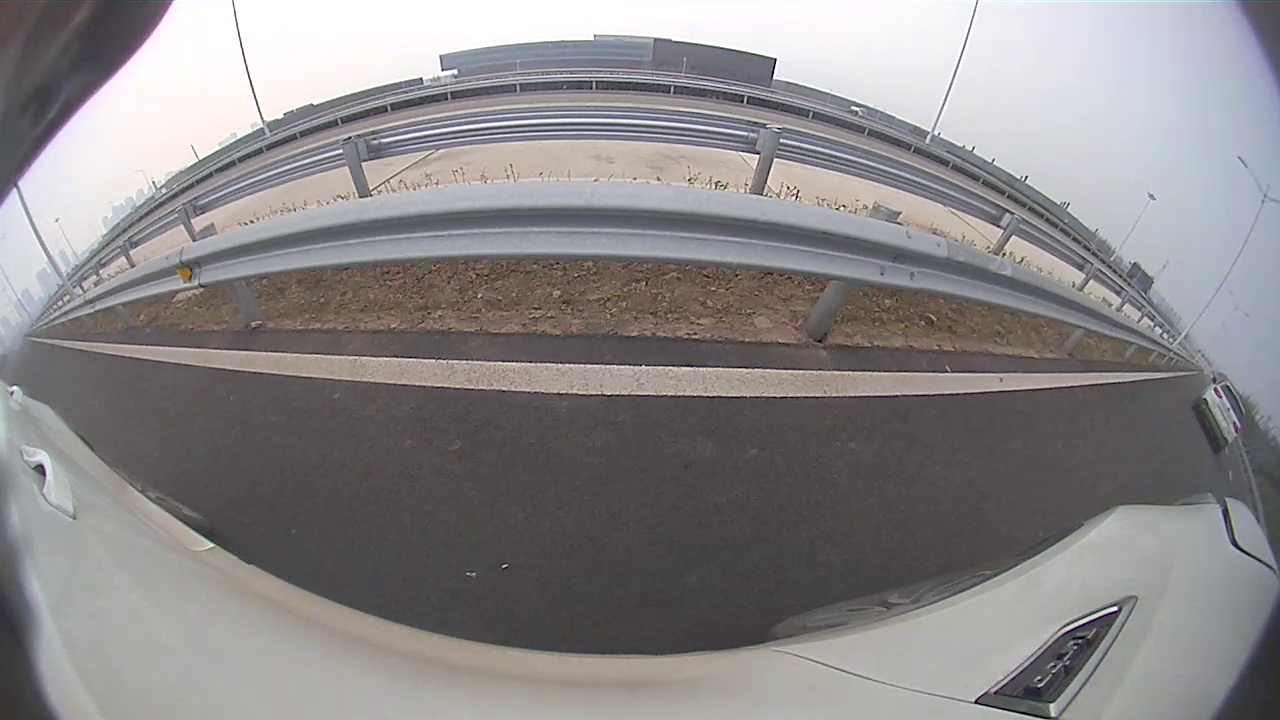car: (285, 139, 496, 273)
front: (475, 189, 494, 223)
rear: (387, 205, 425, 256)
